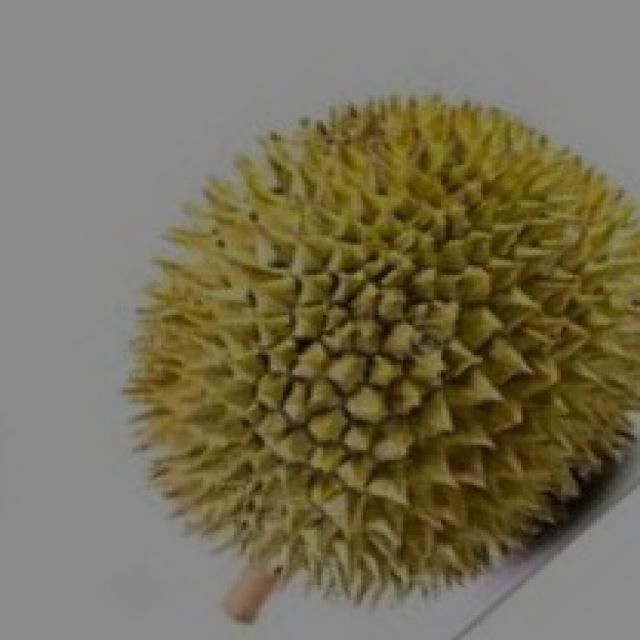fruit: (258, 260, 640, 640), (74, 258, 449, 638)
